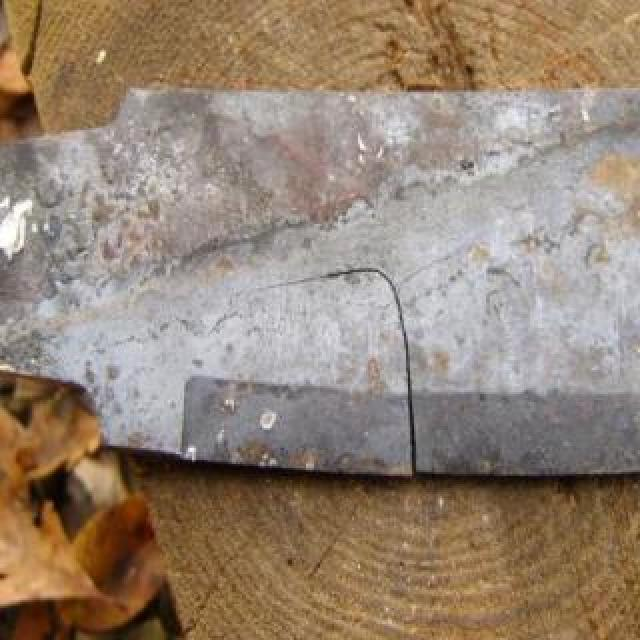crack: (240, 258, 424, 488)
